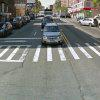Crosswalk: (6, 40, 99, 76)
